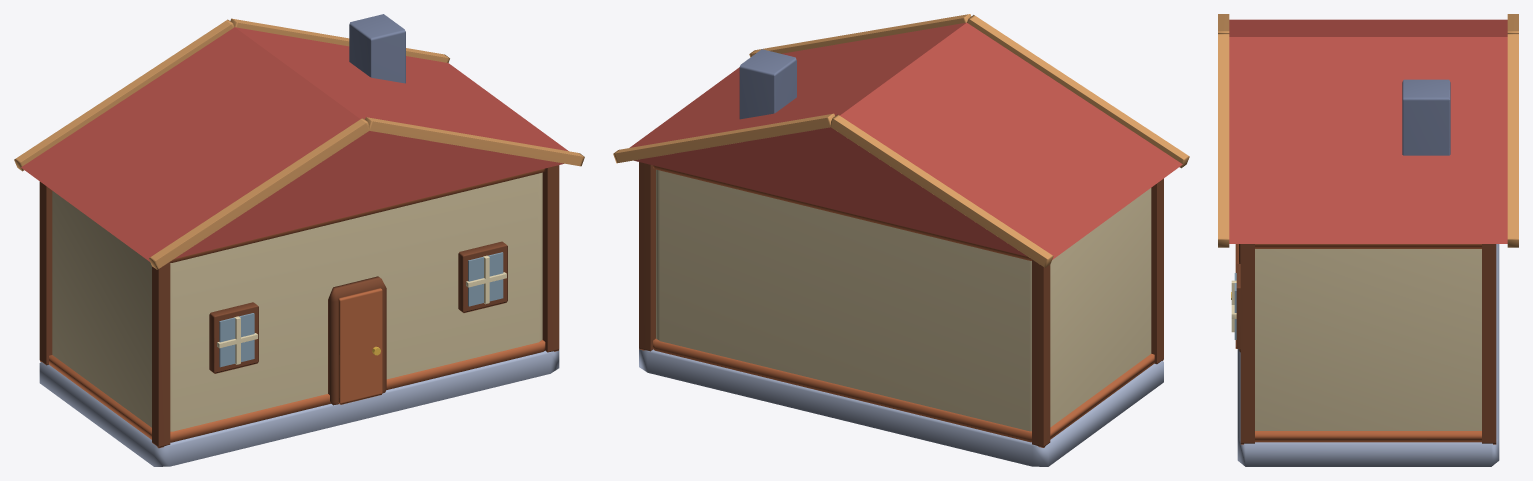
The model's file is miners_barracks.glb.
The picture shows the model from 3 angles, left to right: view 1: azimuth 30°, elevation 25°; view 2: azimuth 150°, elevation 25°; view 3: azimuth 270°, elevation 25°; orthographic projection. The views are drawn at different scales.
Parts seen in each view (by area): view 1: Plaster walls.003, Pitched roof.003, Stone footing.003, Timber band.006, Door planks.003, Roof trim.012, Corner post.012, Corner post.014, Chimney.003, Roof trim.013, Roof trim.014, Corner post.013 (+7 smaller); view 2: Plaster walls.003, Pitched roof.003, Stone footing.003, Timber band.006, Roof trim.014, Corner post.013, Chimney.003, Corner post.015, Roof trim.015, Roof trim.012, Corner post.012, Roof trim.013 (+1 smaller); view 3: Pitched roof.003, Plaster walls.003, Stone footing.003, Chimney.003, Corner post.014, Corner post.015, Timber band.006, Roof trim.013, Roof trim.015, Timber band.007, Window frame.007.
Part boxes in pixels (x1,y1,x2,y2): Plaster walls.003: [52, 172, 542, 431]; Pitched roof.003: [21, 27, 568, 261]; Stone footing.003: [39, 349, 559, 466]; Timber band.006: [49, 340, 545, 442]; Door planks.003: [338, 288, 382, 404]; Roof trim.012: [149, 118, 369, 269]; Corner post.012: [152, 262, 170, 448]; Corner post.014: [542, 165, 559, 352]; Chimney.003: [349, 14, 405, 83]; Roof trim.013: [365, 117, 584, 166]; Roof trim.014: [14, 19, 234, 171]; Corner post.013: [39, 181, 52, 365]; Plaster walls.003: [656, 169, 1151, 431]; Pitched roof.003: [629, 22, 1182, 259]; Stone footing.003: [639, 349, 1163, 466]; Timber band.006: [653, 338, 1154, 442]; Roof trim.014: [830, 114, 1053, 267]; Corner post.013: [1032, 259, 1050, 447]; Chimney.003: [739, 49, 796, 119]; Corner post.015: [639, 162, 655, 351]; Roof trim.015: [613, 113, 834, 163]; Roof trim.012: [967, 15, 1189, 168]; Corner post.012: [1151, 178, 1163, 364]; Roof trim.013: [749, 14, 971, 57]; Pitched roof.003: [1229, 19, 1507, 243]; Plaster walls.003: [1255, 249, 1481, 430]; Stone footing.003: [1237, 244, 1499, 466]; Chimney.003: [1402, 79, 1450, 155]; Corner post.014: [1240, 244, 1254, 444]; Corner post.015: [1482, 244, 1496, 444]; Timber band.006: [1255, 431, 1481, 442]; Roof trim.013: [1218, 33, 1229, 247]; Roof trim.015: [1507, 33, 1518, 247]; Timber band.007: [1255, 244, 1481, 248]; Window frame.007: [1236, 264, 1240, 348].
Bounding box in the file's own units: 6.65 × 4.51 × 3.74.
